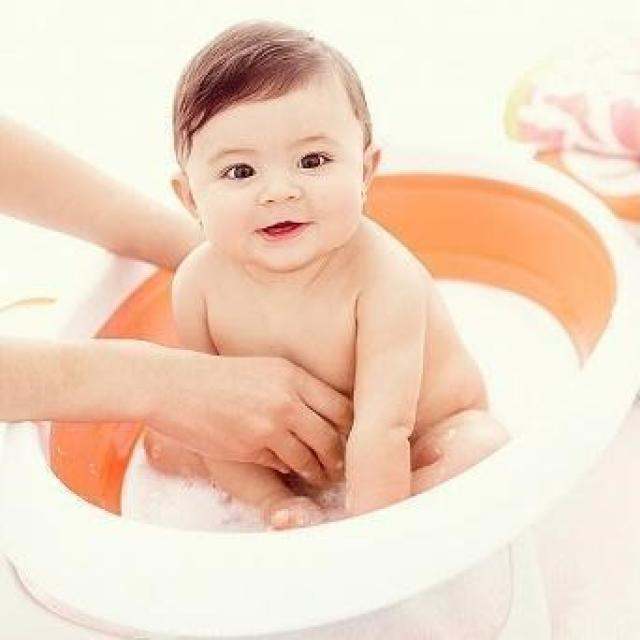non-dog: (154, 24, 511, 530), (0, 118, 354, 486)
